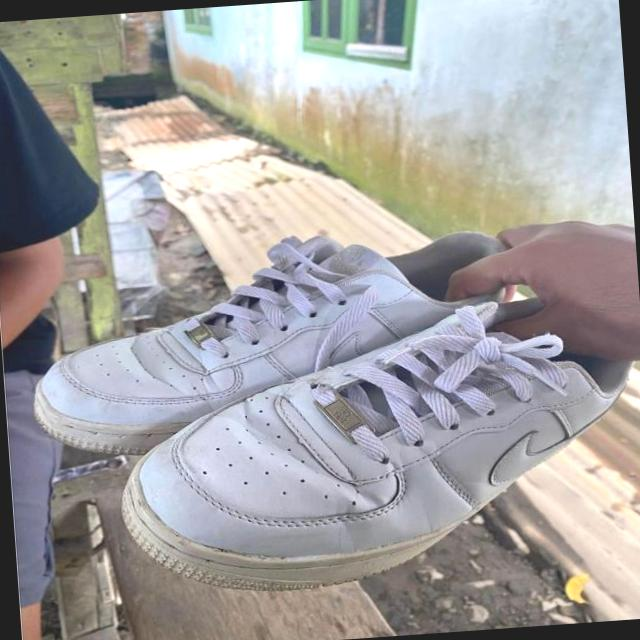nike_fake_airforce: (104, 286, 636, 600), (53, 210, 608, 450)
